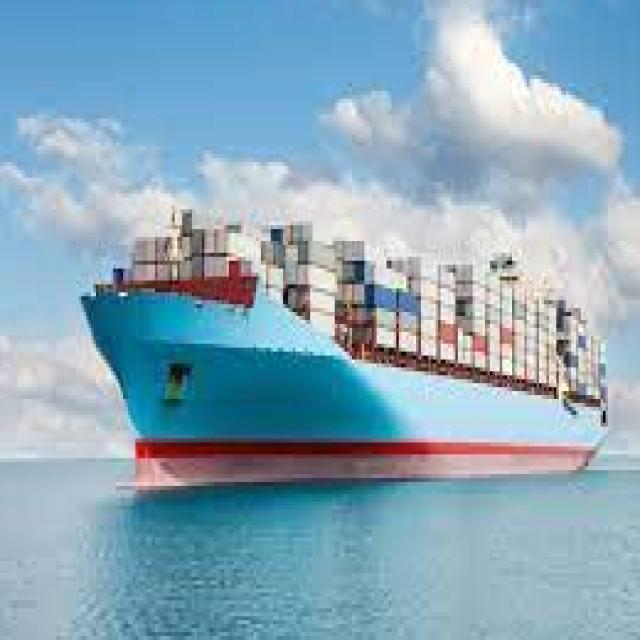cargoship: (88, 212, 611, 496)
